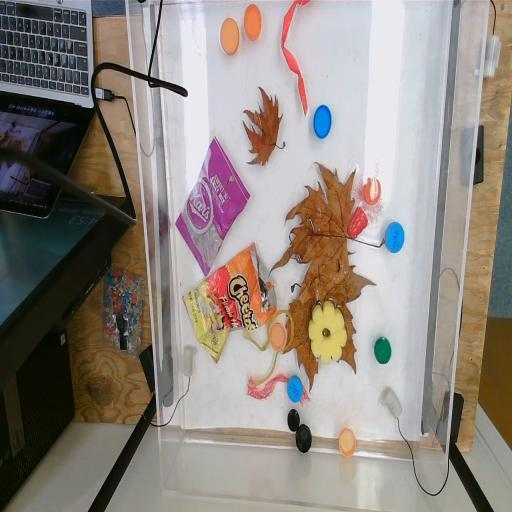Bottle Cap: (220, 17, 240, 57), (312, 102, 332, 140), (243, 3, 262, 41), (385, 222, 405, 254), (269, 322, 287, 352), (338, 428, 356, 458), (363, 176, 381, 206), (374, 336, 392, 365), (296, 424, 312, 453), (287, 376, 303, 404), (288, 409, 300, 432)
Cone Cap: (346, 205, 369, 241)
Leaf: (268, 161, 386, 283), (280, 264, 378, 396), (242, 85, 286, 167)
Netting: (246, 374, 312, 408), (352, 162, 385, 225)
Plastic Bag: (182, 240, 278, 365), (174, 134, 250, 278)
Plastic Strand: (242, 309, 294, 387), (280, 0, 310, 118)
Sponge: (308, 300, 347, 364)
